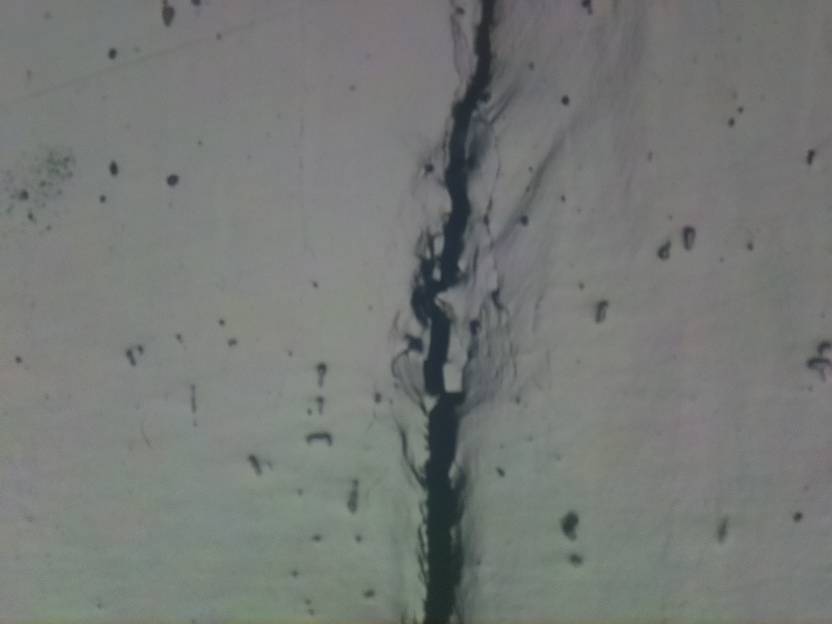crack: (412, 0, 494, 624)
